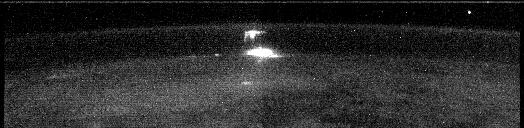positive: (242, 28, 263, 44)
